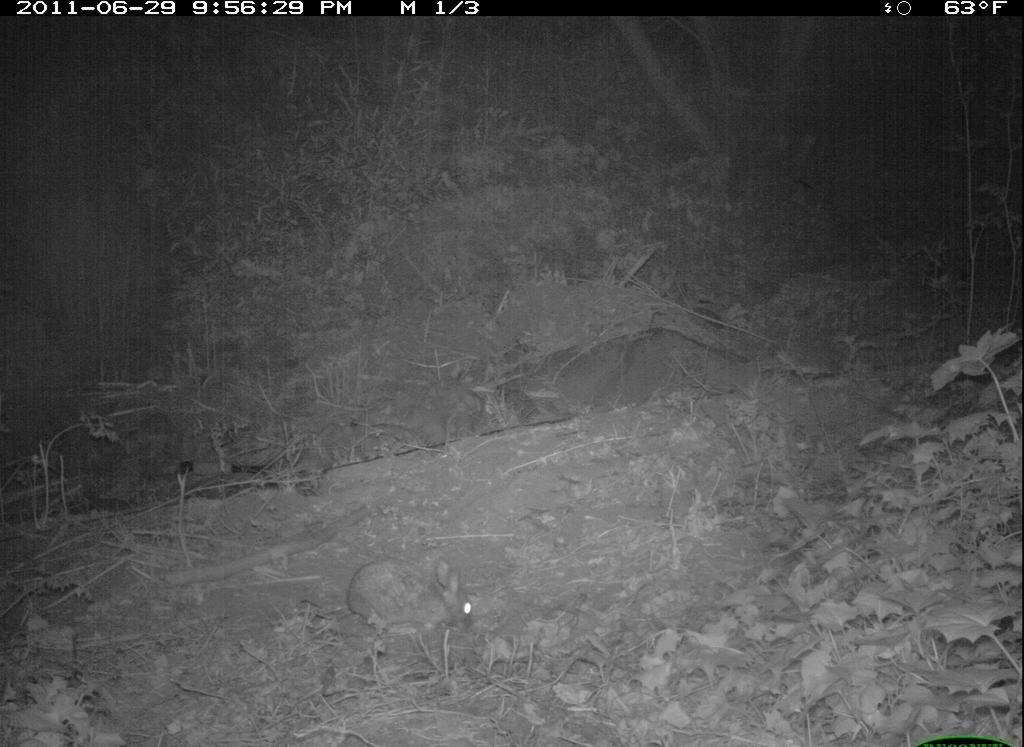rabbit: (341, 550, 489, 646)
